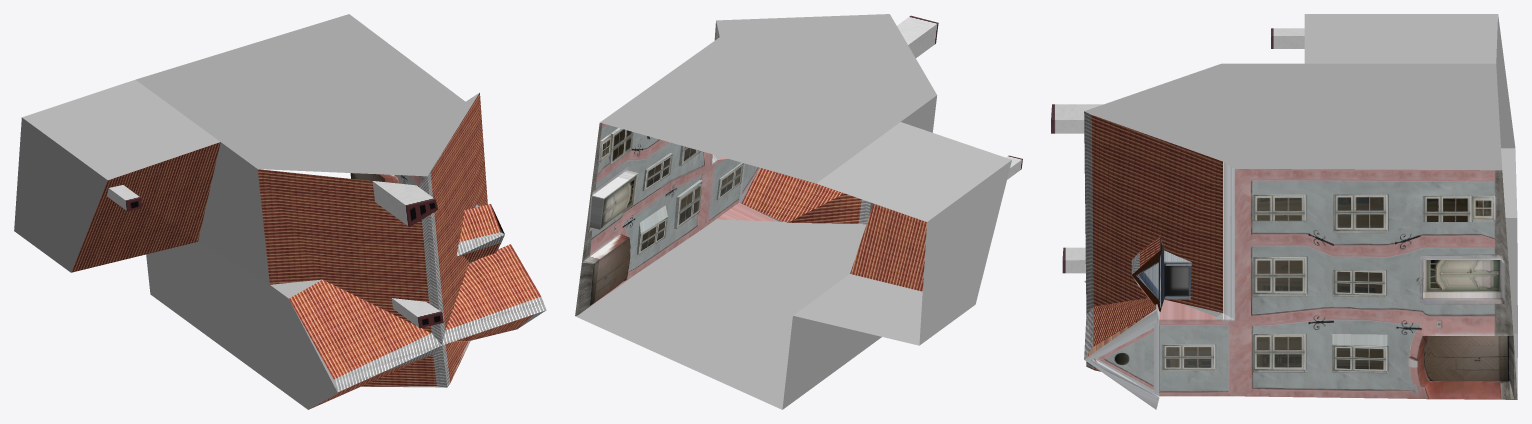
File: Toom-Kooli_5_1-origo.obj
3 views of the same model, side by side, from view 1: azimuth 30°, elevation 25°; view 2: azimuth 150°, elevation 25°; view 3: azimuth 270°, elevation 25° (orthographic). The views are drawn at different scales.
Visible parts, largest first — view 1: Toom_Kooli_5_1; view 2: Toom_Kooli_5_1; view 3: Toom_Kooli_5_1.
Boxes of the visible parts, x1,y1,x2,y2 form: Toom_Kooli_5_1: (14,14,546,409); Toom_Kooli_5_1: (575,14,1022,409); Toom_Kooli_5_1: (1051,14,1517,409).
Size of the model in its own units: 16.75 by 11.5 by 17.34.
